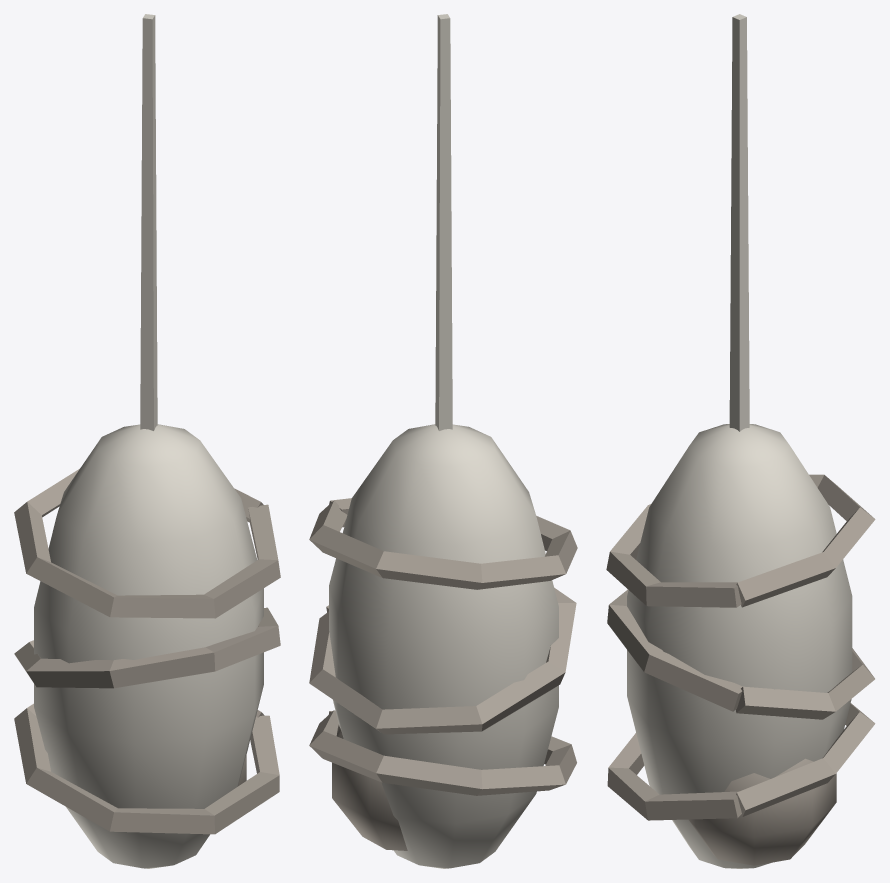
The model's file is Cocoon.fbx.
3 renders of one model, left to right at view 1: azimuth 30°, elevation 25°; view 2: azimuth 150°, elevation 25°; view 3: azimuth 270°, elevation 25°, orthographic.
Visible parts, largest first — view 1: Frame; view 2: Frame; view 3: Frame.
Part boxes in pixels (x1,y1,x2,y2): Frame: [14, 14, 280, 868]; Frame: [309, 14, 577, 868]; Frame: [606, 14, 875, 868].
Size of the model in its own units: 0.9746 by 3.25 by 0.9308.
Materials: 1 (1 with a texture image).
